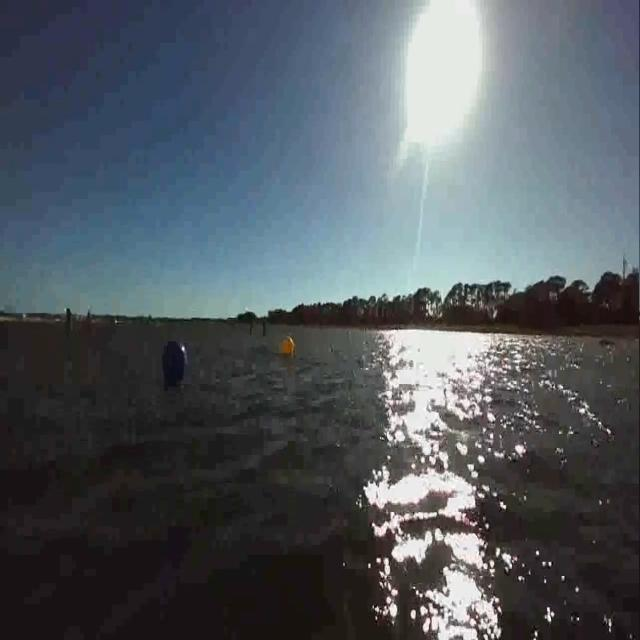blue-buoy: (162, 339, 185, 387)
yellow-buoy: (281, 338, 296, 357)
